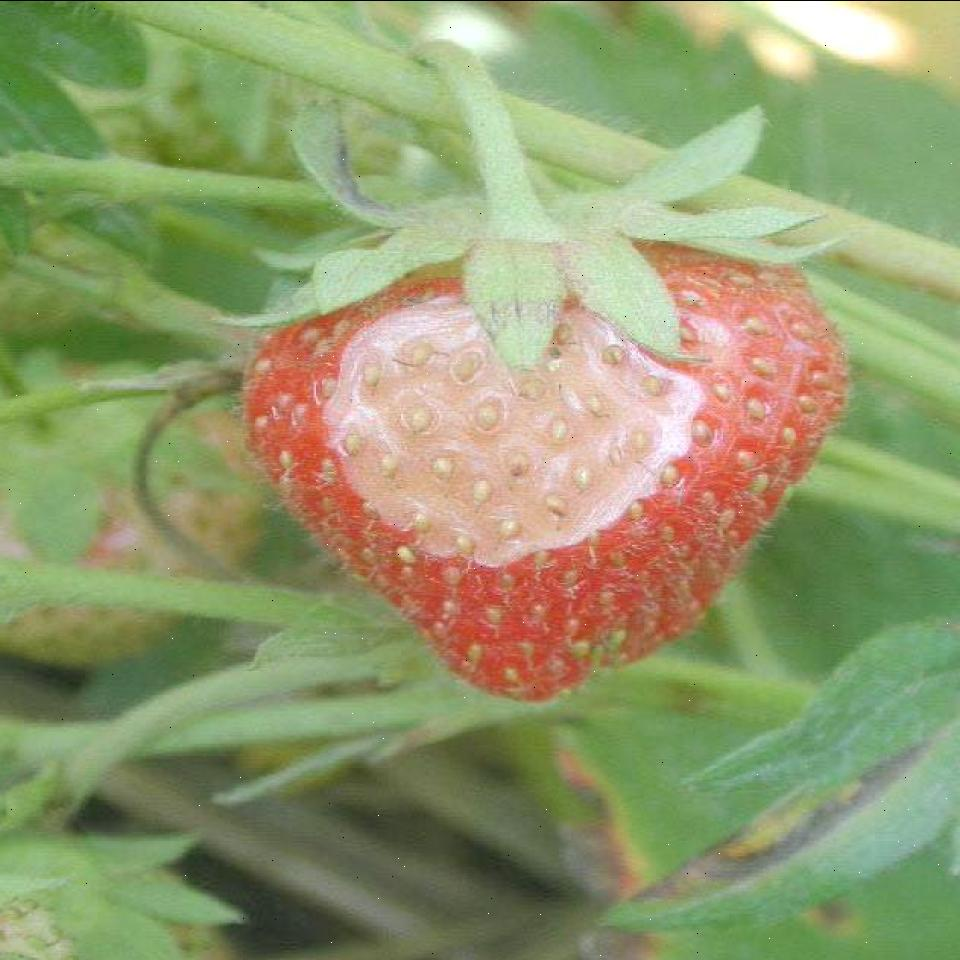Sunscald: (314, 280, 714, 562)
